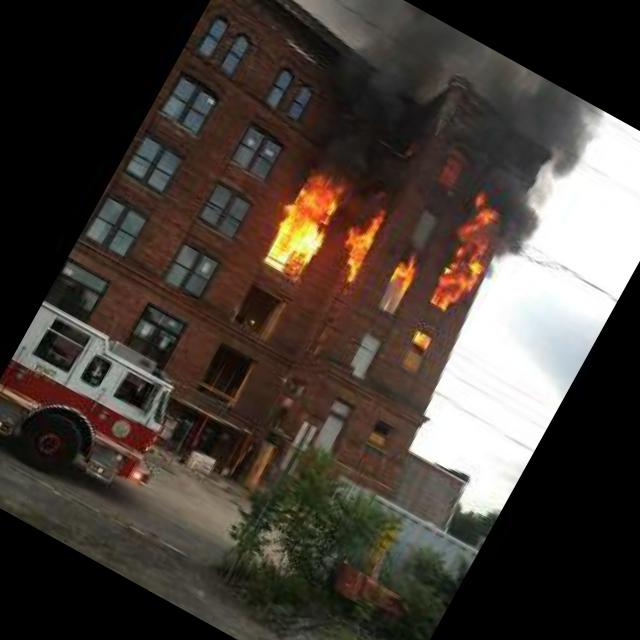fire: (243, 113, 522, 364)
smoke: (254, 0, 627, 268)
